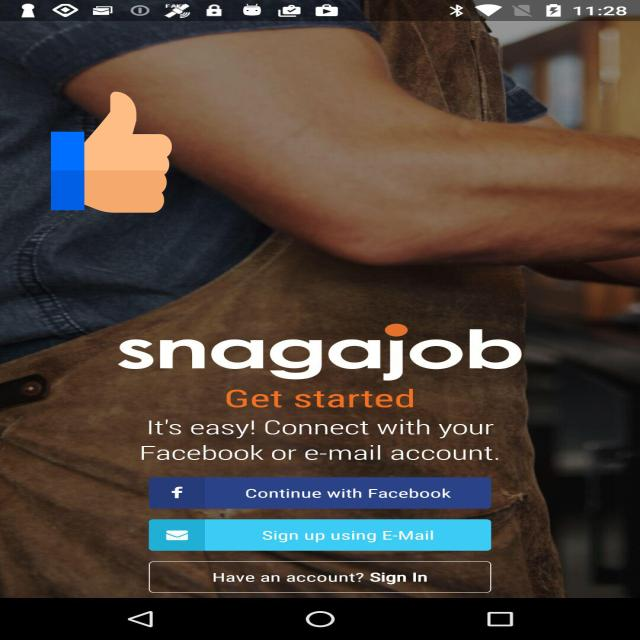privacy zuckering: (51, 88, 172, 215)
